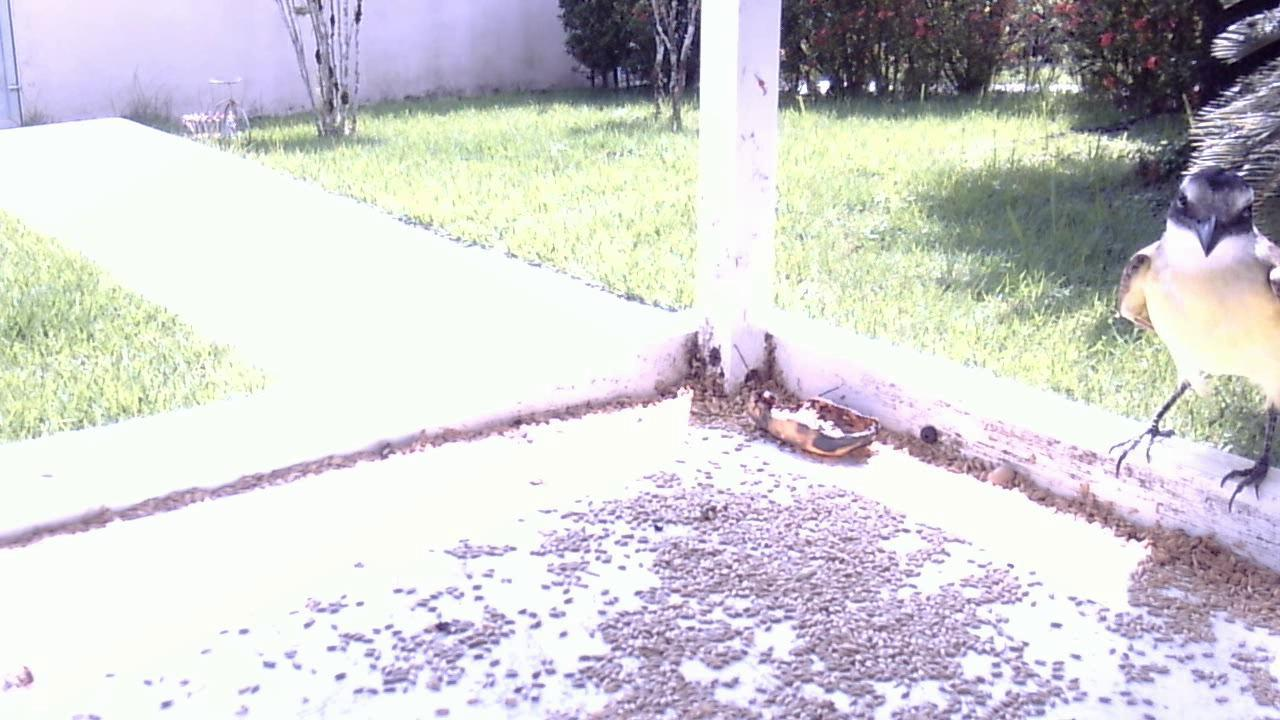bem_te_vi: (1093, 113, 1273, 548)
